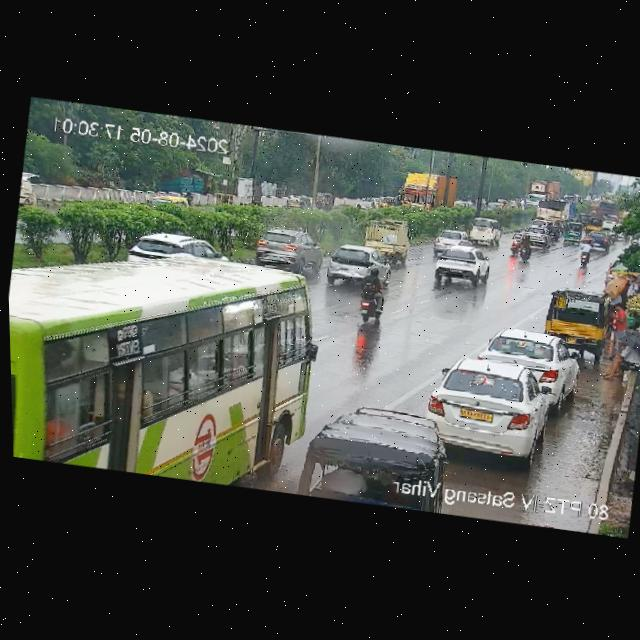bus: (7, 218, 336, 497)
car: (418, 342, 575, 465), (471, 325, 584, 414), (542, 283, 614, 348), (127, 227, 231, 270), (323, 241, 392, 293), (430, 243, 492, 290), (464, 215, 505, 250), (143, 189, 191, 211), (435, 229, 473, 251), (582, 228, 615, 252), (562, 219, 588, 245), (528, 225, 550, 248), (312, 190, 334, 213), (281, 195, 312, 211), (586, 215, 604, 231)
motorcycle: (354, 265, 389, 326), (576, 241, 595, 269), (507, 227, 525, 256), (519, 234, 533, 265)
person: (600, 324, 640, 386), (620, 271, 640, 303)
truck: (248, 224, 323, 277), (398, 169, 460, 215), (359, 216, 412, 267), (532, 197, 575, 228), (526, 177, 562, 209)
